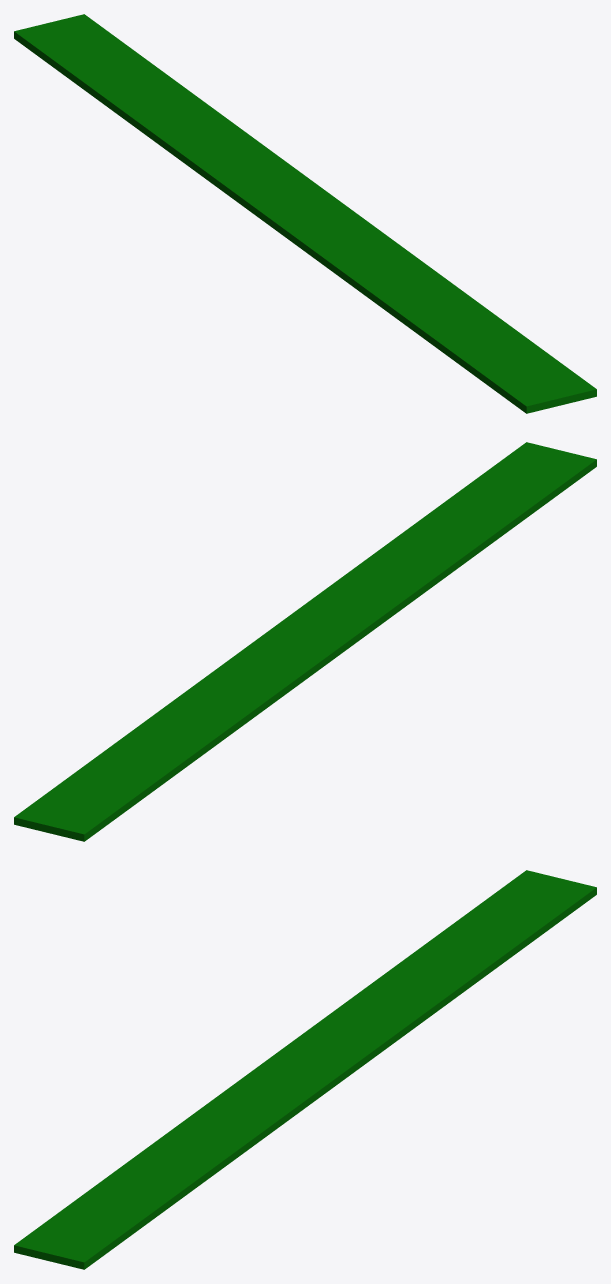
File: Grass.obj
The picture shows the model from 3 angles, top to bottom: view 1: azimuth 30°, elevation 25°; view 2: azimuth 150°, elevation 25°; view 3: azimuth 330°, elevation 25°; orthographic projection.
Size of the model in its own units: 10 by 1 by 126.
1 material, 1 textured.
